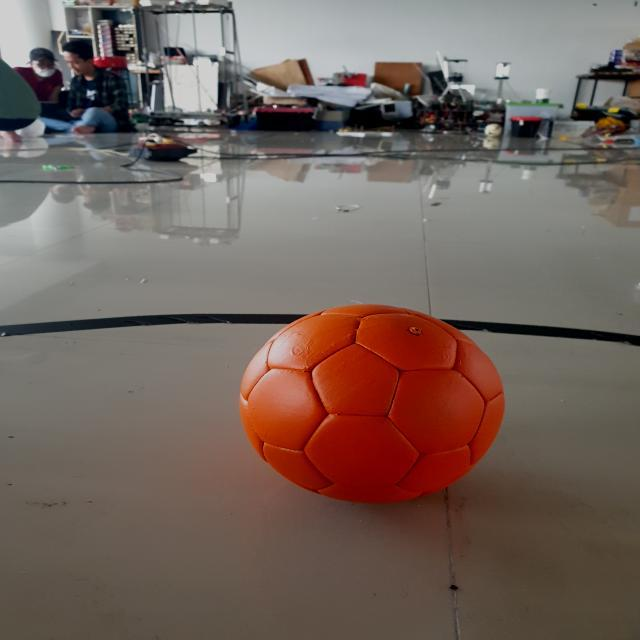bola: (238, 296, 513, 518)
